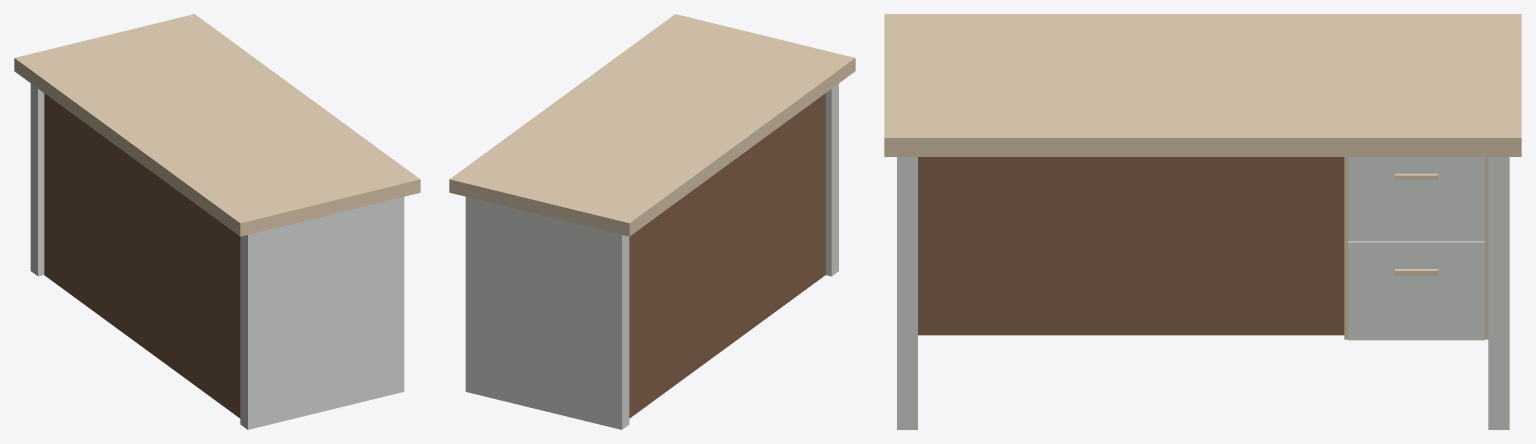
The model's file is WorkDesk.fbx.
3 views of the same model, side by side, from view 1: azimuth 30°, elevation 25°; view 2: azimuth 150°, elevation 25°; view 3: azimuth 270°, elevation 25° (orthographic). The views are drawn at different scales.
Parts seen in each view (by area): view 1: Cube.004; view 2: Cube.004; view 3: Cube.004.
Boxes of the visible parts, x1,y1,x2,y2 form: Cube.004: (14,14,420,429); Cube.004: (449,14,855,429); Cube.004: (884,14,1521,429).
Size of the model in its own units: 175 by 197 by 379.
